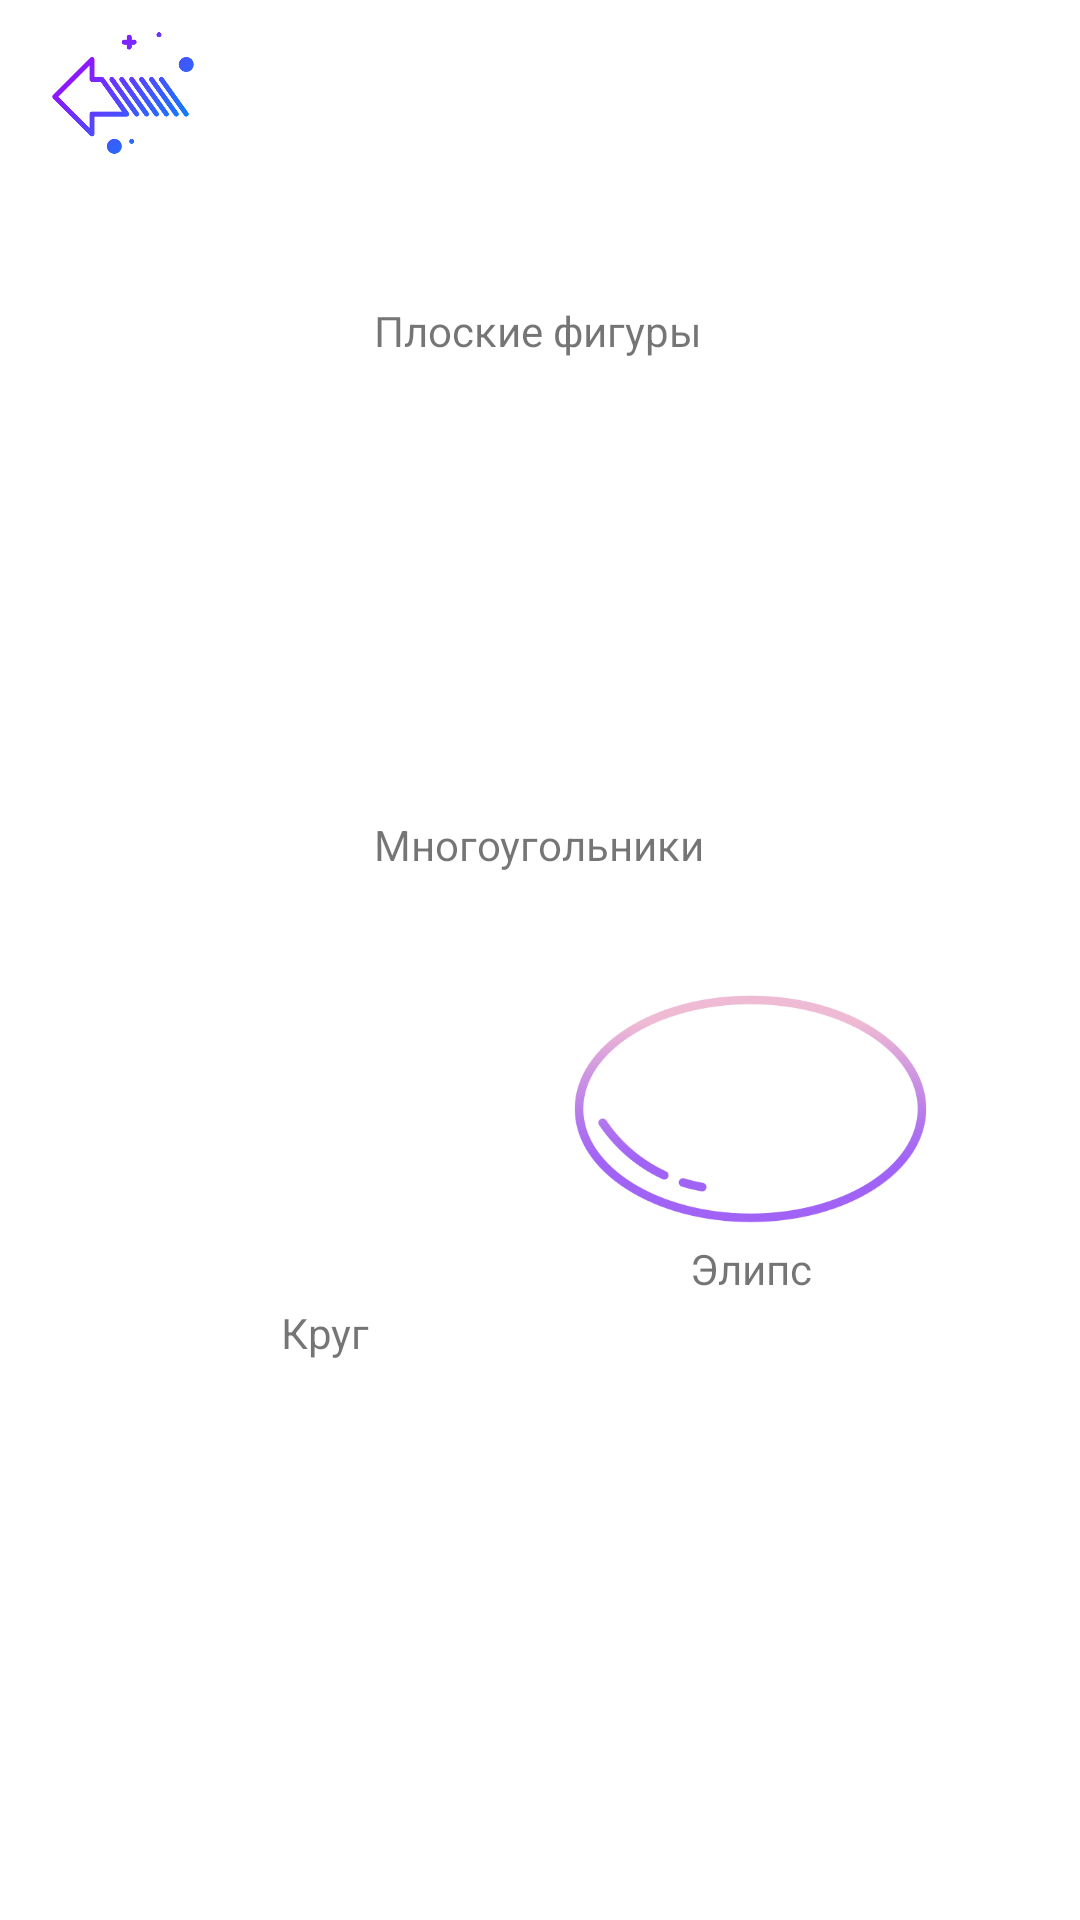

Locate icon controls on the screen. Image size 1080x1920, boxes as (x1, y1, x2, y2).
ctrela: (52, 32, 194, 154)
